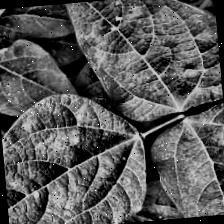Bean Rust: (50, 0, 224, 127), (0, 86, 152, 224), (144, 95, 224, 220)
